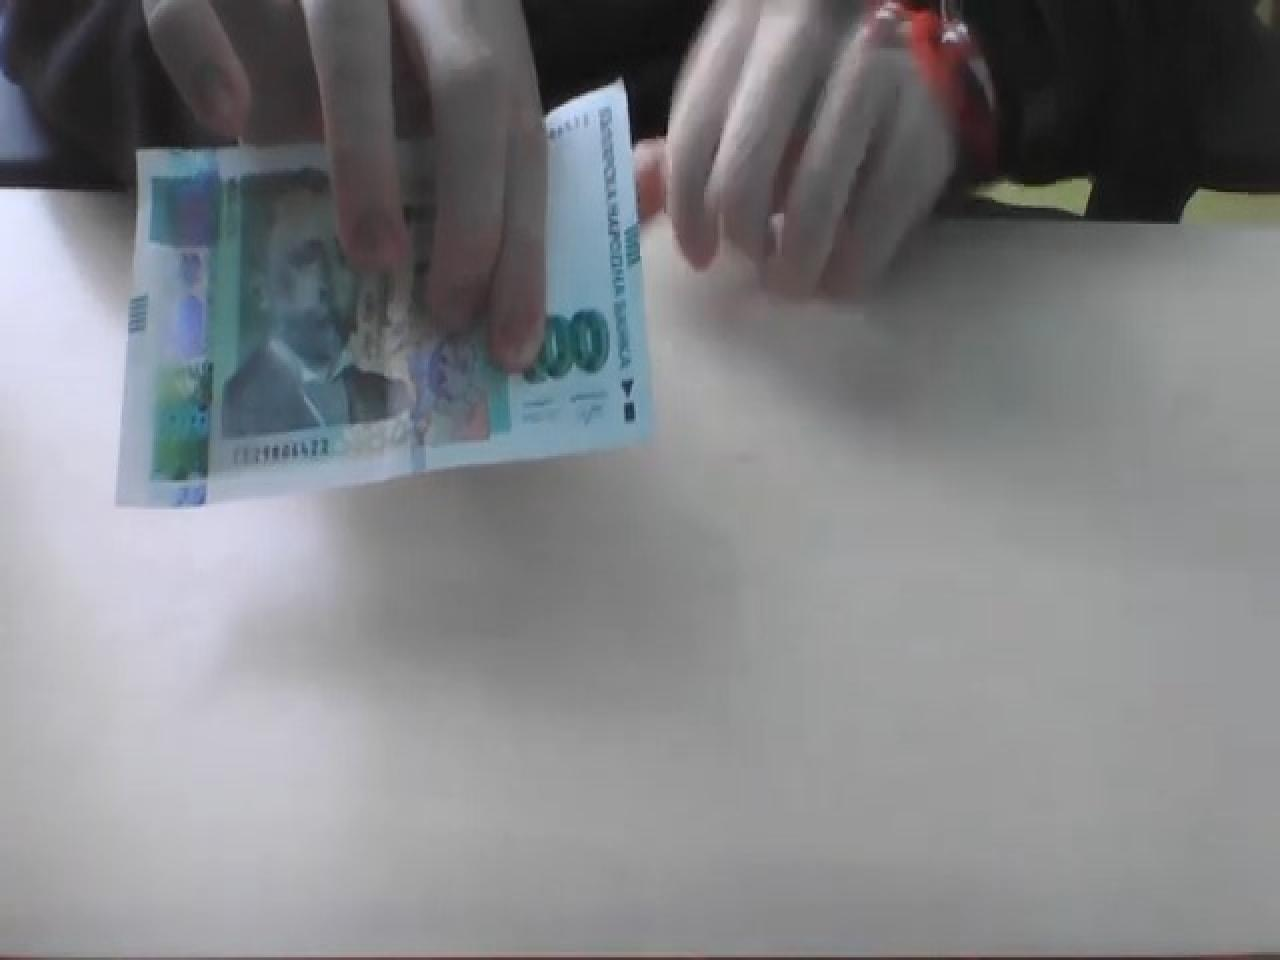100leva: (114, 83, 654, 509)
